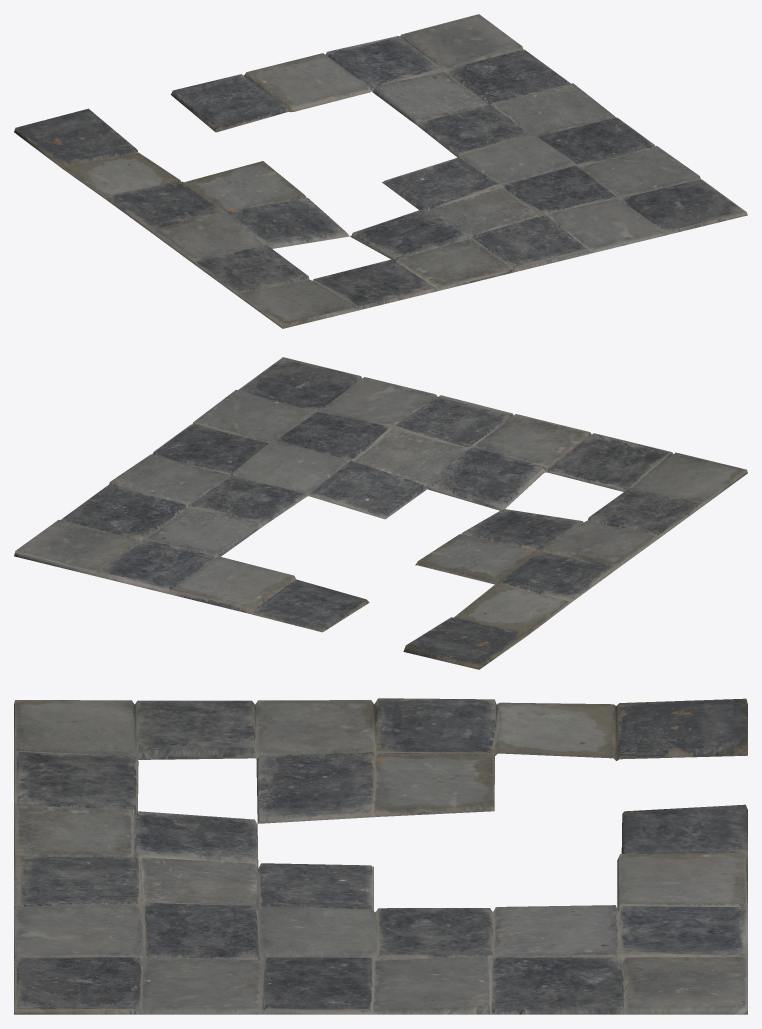
File: sm_Floor_01_02.fbx
3 renders of one model, top to bottom at view 1: azimuth 30°, elevation 25°; view 2: azimuth 150°, elevation 25°; view 3: azimuth 270°, elevation 25°, orthographic. The views are drawn at different scales.
Parts seen in each view (by area): view 1: sm_Floor_01_02_LOD0; view 2: sm_Floor_01_02_LOD0; view 3: sm_Floor_01_02_LOD0.
Part boxes in pixels (bbox=[...]): sm_Floor_01_02_LOD0: bbox=[14, 14, 747, 328]; sm_Floor_01_02_LOD0: bbox=[14, 357, 747, 669]; sm_Floor_01_02_LOD0: bbox=[14, 698, 747, 1014].
Bounding box in the file's own units: 250 × 250 × 9.31.
